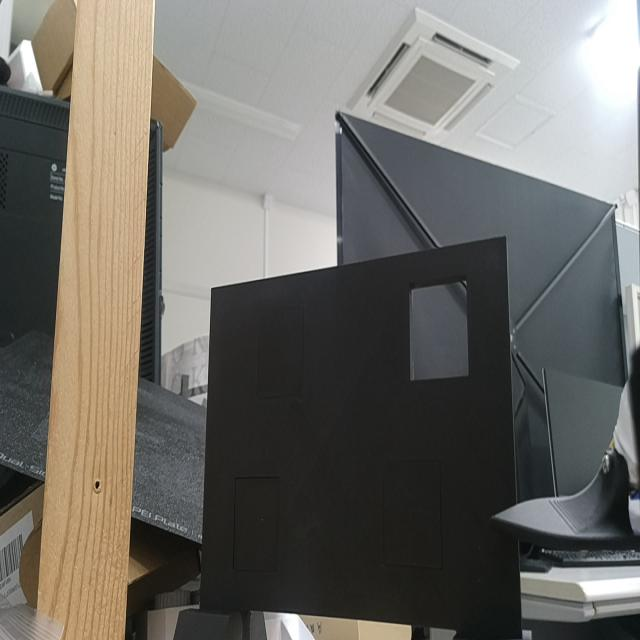Obstacle: (409, 280, 469, 379)
Wall: (200, 237, 520, 639)
